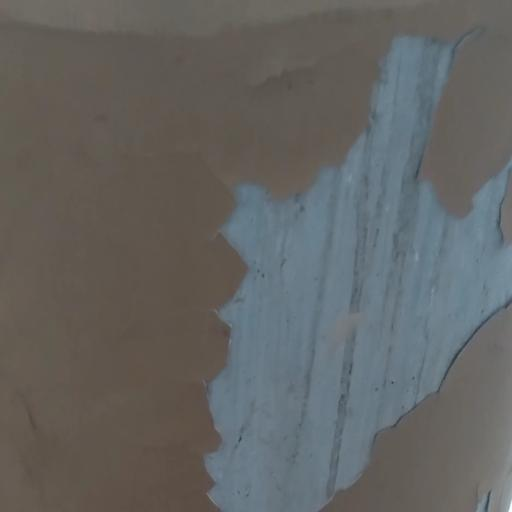peeling: (194, 17, 512, 512)
